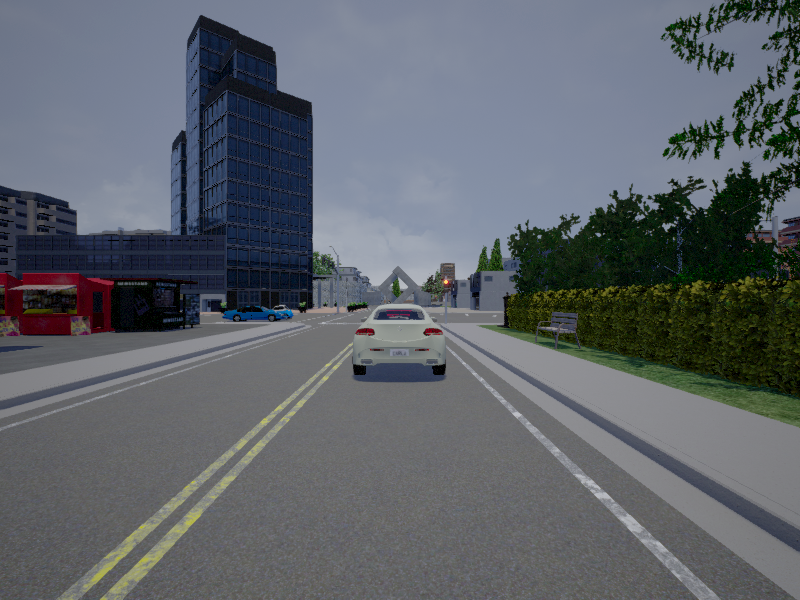Benign: (357, 304, 446, 378), (222, 301, 290, 323)
